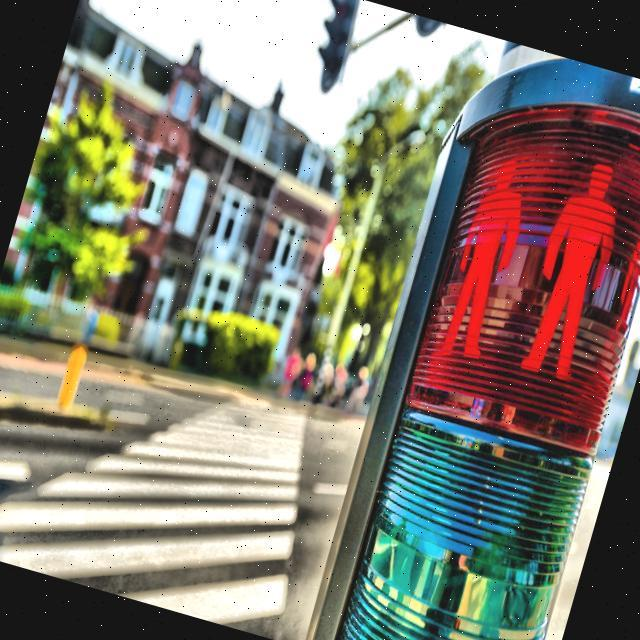red_light: (508, 148, 640, 390), (429, 144, 543, 374)
